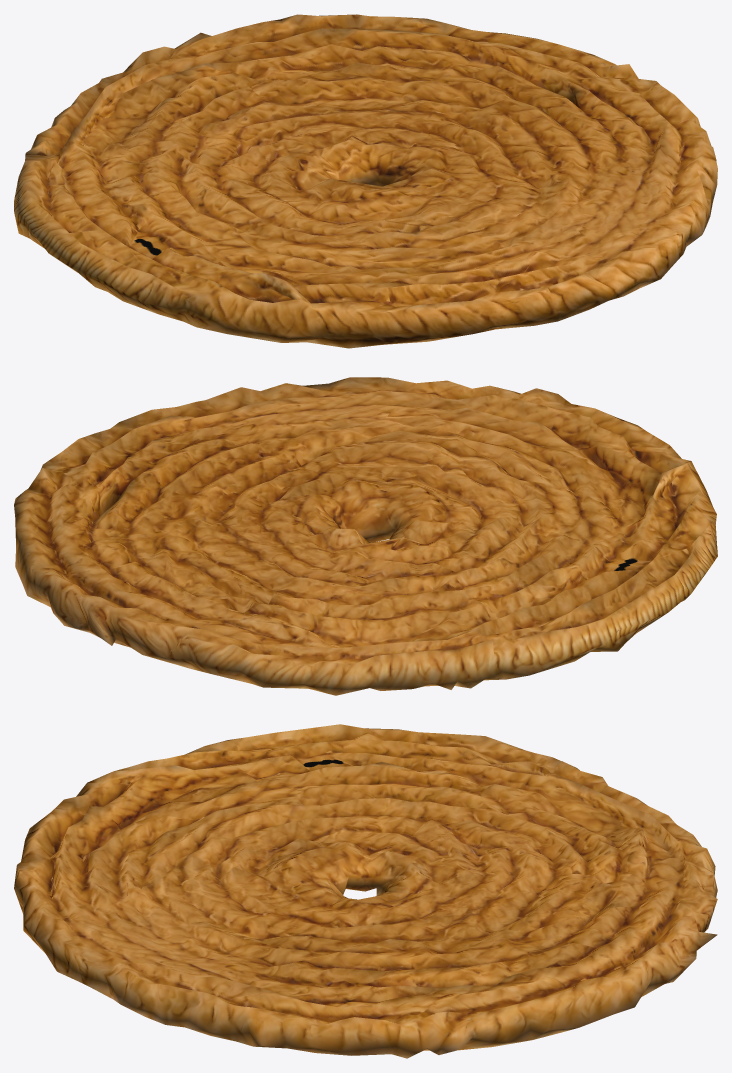
Rendered from t_Coiled_Rope_Mat.glb.
3 views of the same model, one above another, from view 1: azimuth 30°, elevation 25°; view 2: azimuth 150°, elevation 25°; view 3: azimuth 270°, elevation 25° (orthographic).
Parts seen in each view (by area): view 1: Mesh1.0; view 2: Mesh1.0; view 3: Mesh1.0.
Boxes of the visible parts, x1,y1,x2,y2 form: Mesh1.0: [14, 14, 717, 348]; Mesh1.0: [14, 377, 717, 695]; Mesh1.0: [14, 724, 717, 1058].
Size of the model in its own units: 2.01 by 0.1732 by 1.98.
1 material, 1 textured.
